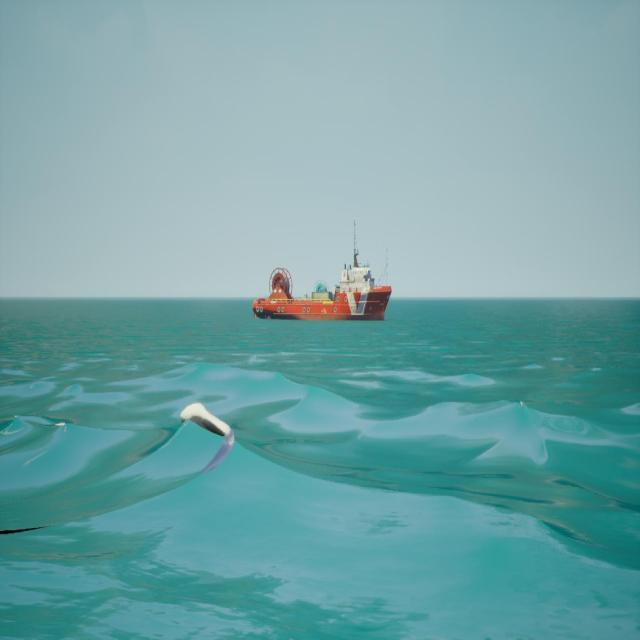tug boat: (255, 219, 394, 324)
